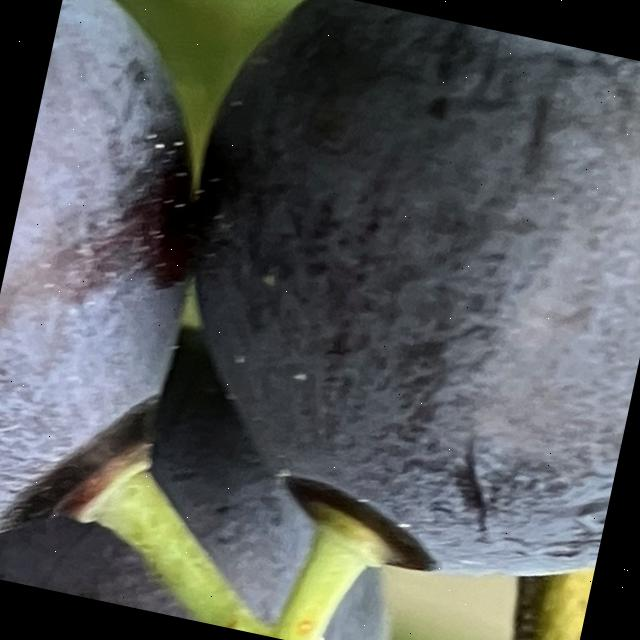Blueberries: (138, 0, 640, 640), (0, 0, 262, 606)
